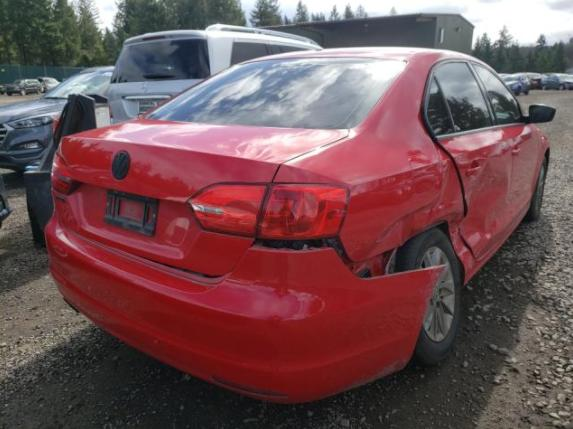Back-bumper: (44, 204, 443, 403)
Back-door: (423, 58, 518, 261)
Back-wheel: (393, 227, 461, 366)
Back-window: (427, 62, 493, 135)
Back-windshield: (144, 57, 408, 129)
Fender: (531, 123, 551, 194)
Front-door: (468, 59, 539, 216)
Front-wheel: (529, 159, 548, 222)
Front-window: (468, 60, 524, 124)
Mirror: (522, 105, 556, 125)
Quarter-panel: (272, 117, 477, 278)
Rocker-panel: (462, 198, 531, 287)
Roof: (239, 46, 466, 64)
Tail-light: (185, 182, 350, 240), (51, 151, 72, 194)
Trunk: (51, 118, 349, 279)
